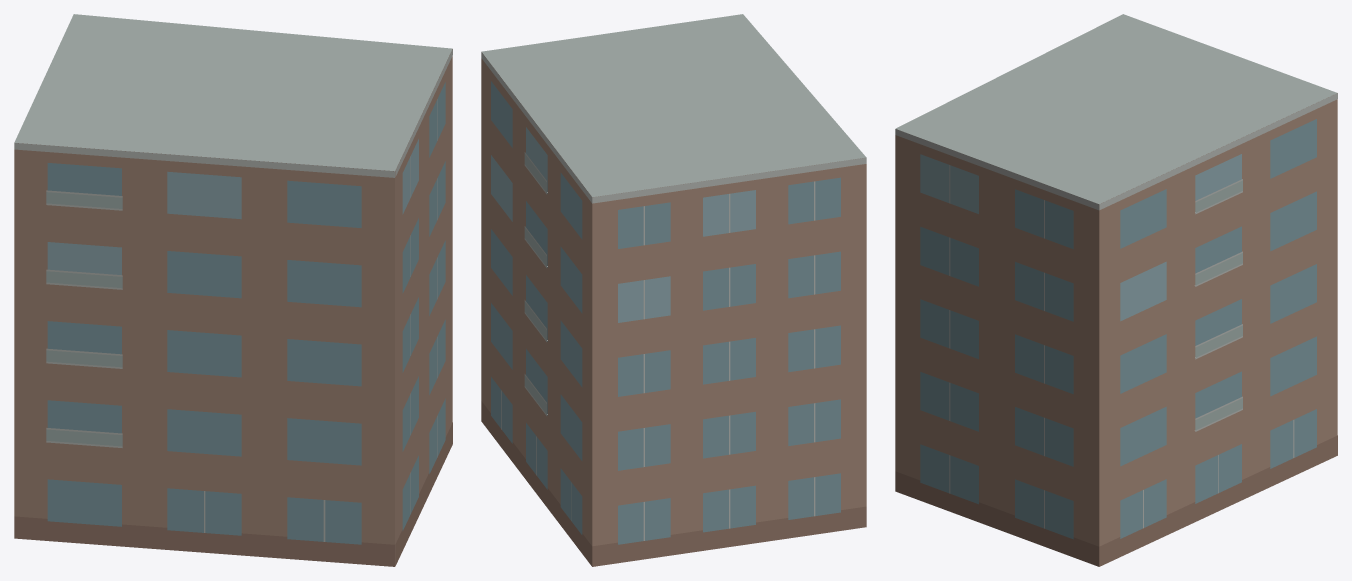
Rendered from survey-upis-32885837.glb.
3 renders of one model, left to right at view 1: azimuth 30°, elevation 25°; view 2: azimuth 150°, elevation 25°; view 3: azimuth 270°, elevation 25°, orthographic. The views are drawn at different scales.
Parts seen in each view (by area): view 1: survey-upis-32885837.tmp; view 2: survey-upis-32885837.tmp; view 3: survey-upis-32885837.tmp.
Part boxes in pixels (box(x1,y1,x2,y2)): survey-upis-32885837.tmp: box(14, 14, 452, 566); survey-upis-32885837.tmp: box(481, 14, 866, 566); survey-upis-32885837.tmp: box(895, 14, 1337, 566).
Bounding box in the file's own units: 16.1 × 14.3 × 15.82.
